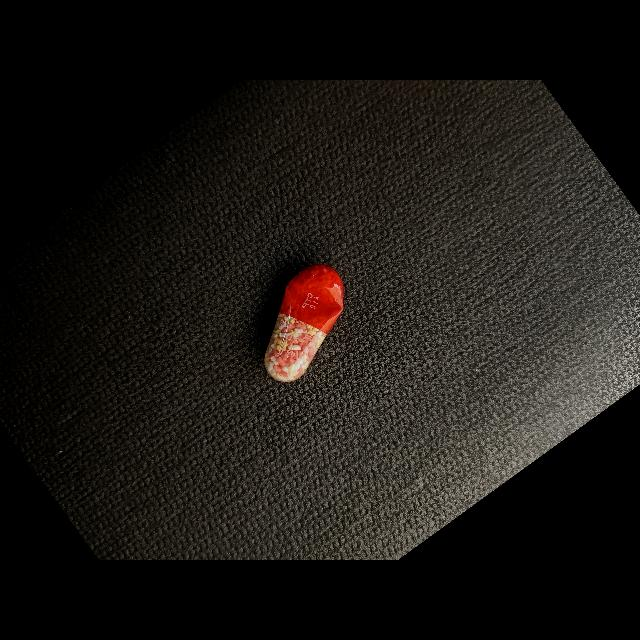Defective Capsule: (264, 264, 344, 382)
